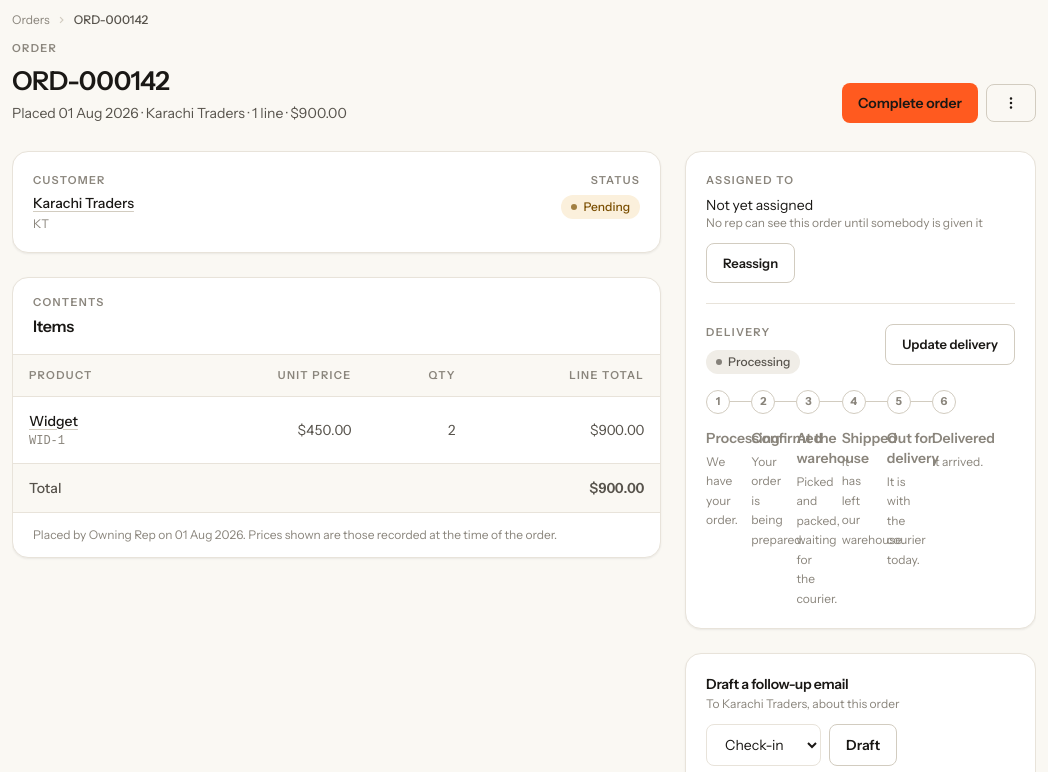
Scenario: the assignment panel › reports a failure instead of appearing to succeed
Step 1. Click the button "Reassign" → (751, 263), box [706,242,795,283]
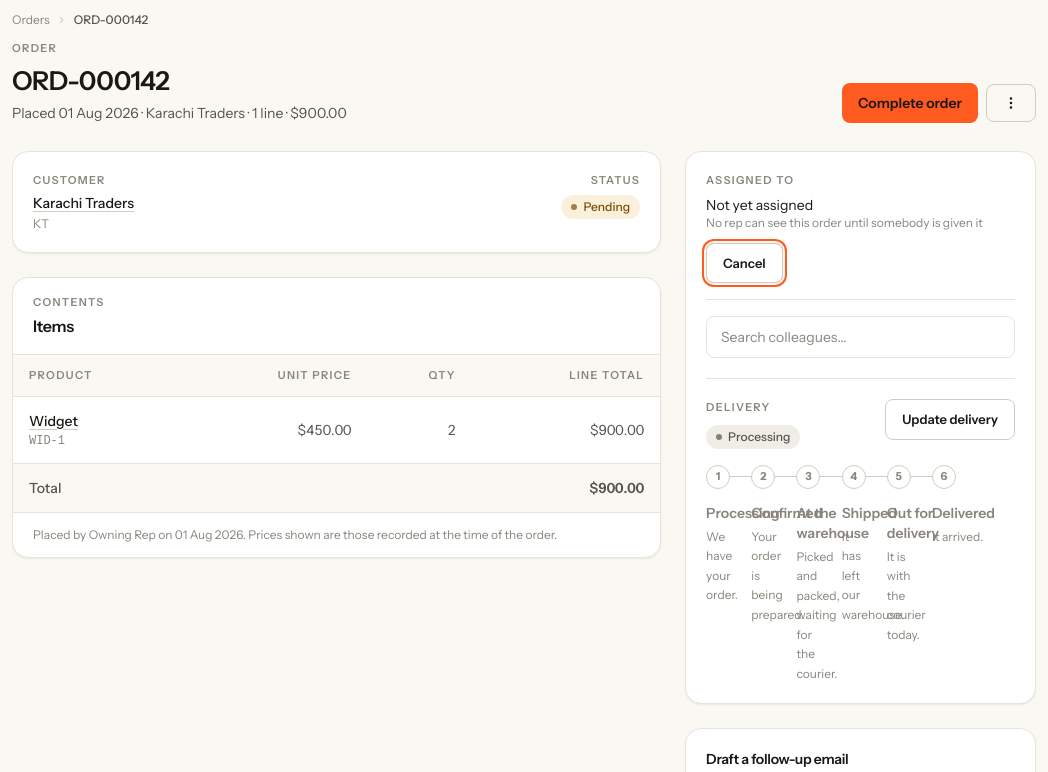
Step 2. Type "Bilal" into the dropdown with placeholder "Search colleagues…" → (861, 337), box [706,316,1015,358]
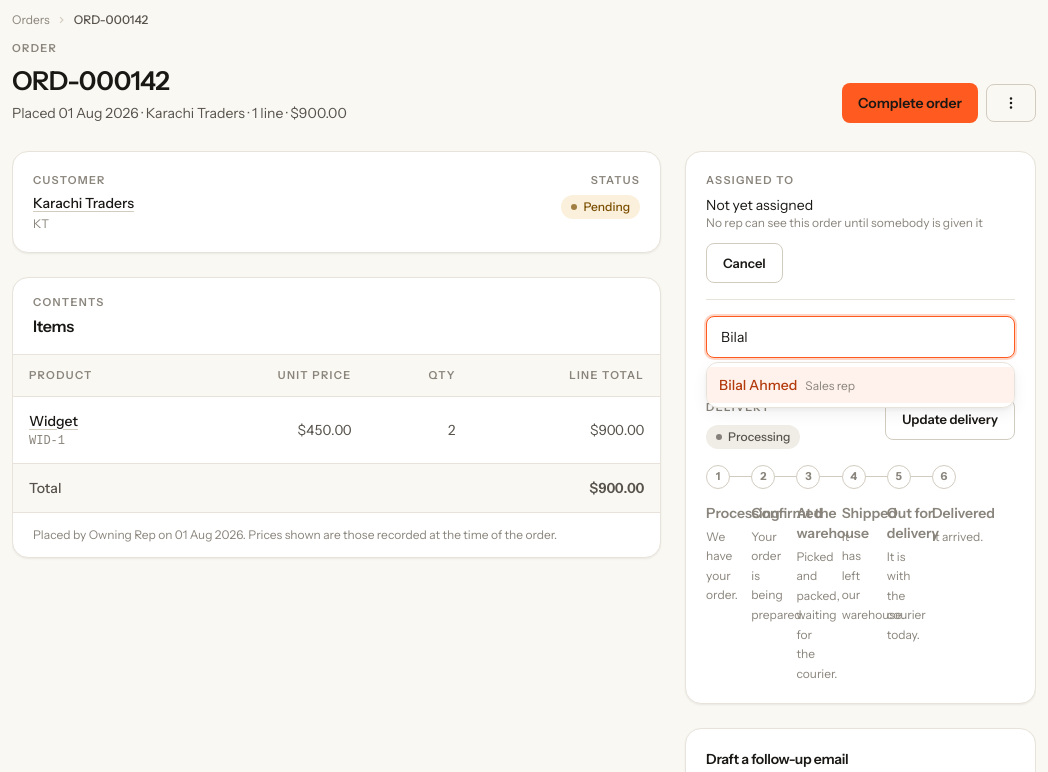
Step 3. Click the option "Bilal Ahmed" → (758, 385), box [707,367,1014,403]
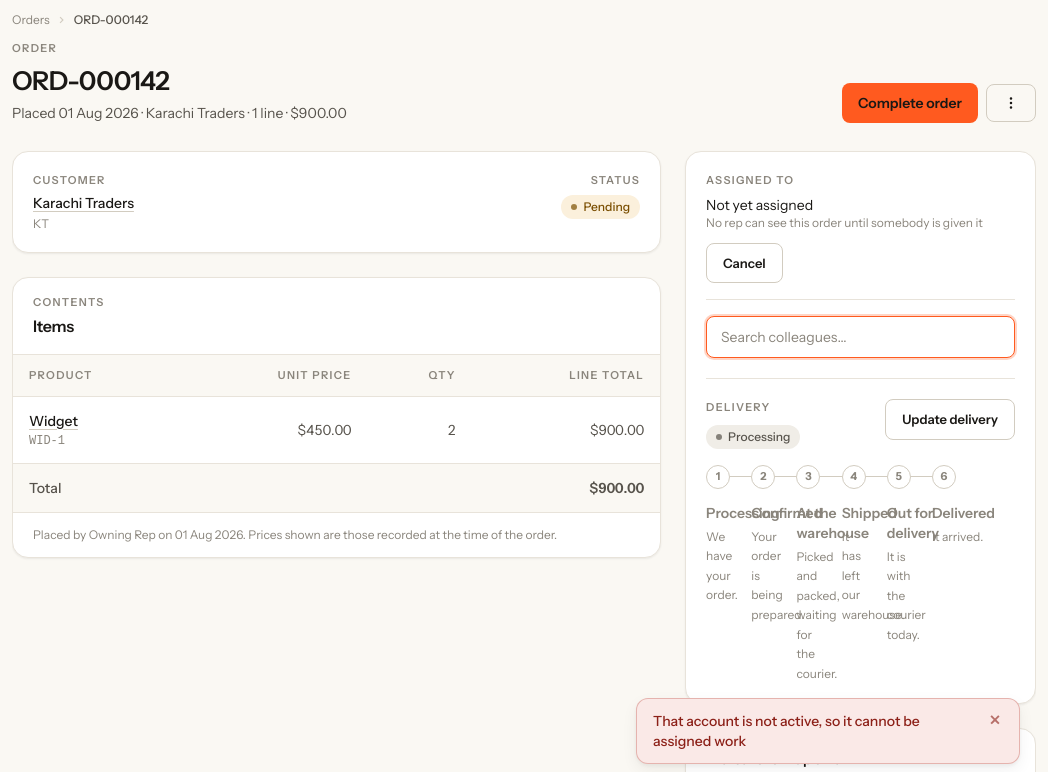
Expected: the text "That account is not active, so it cannot be assigned work" is shown, [653,712,920,750]
